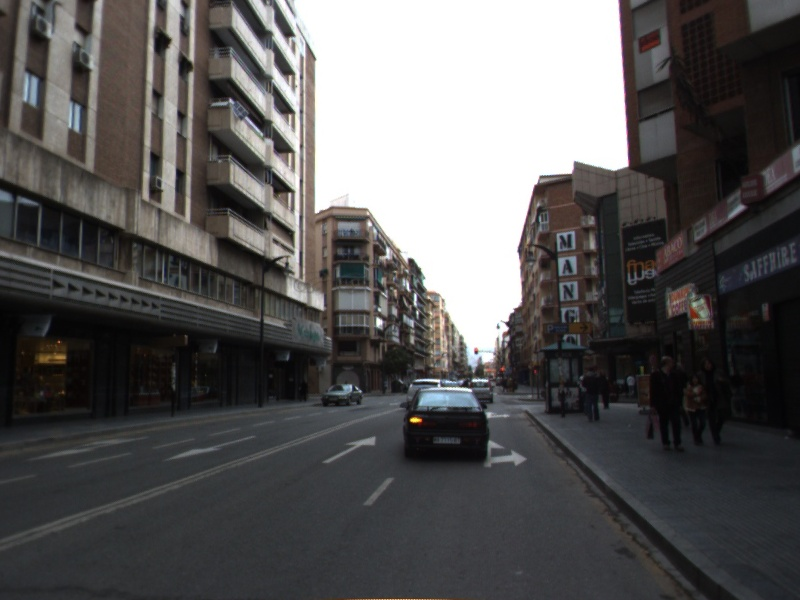STRAIGHT: (320, 433, 378, 465)
STRAIGHT_RIGHT: (483, 437, 530, 470), (483, 409, 514, 420)
